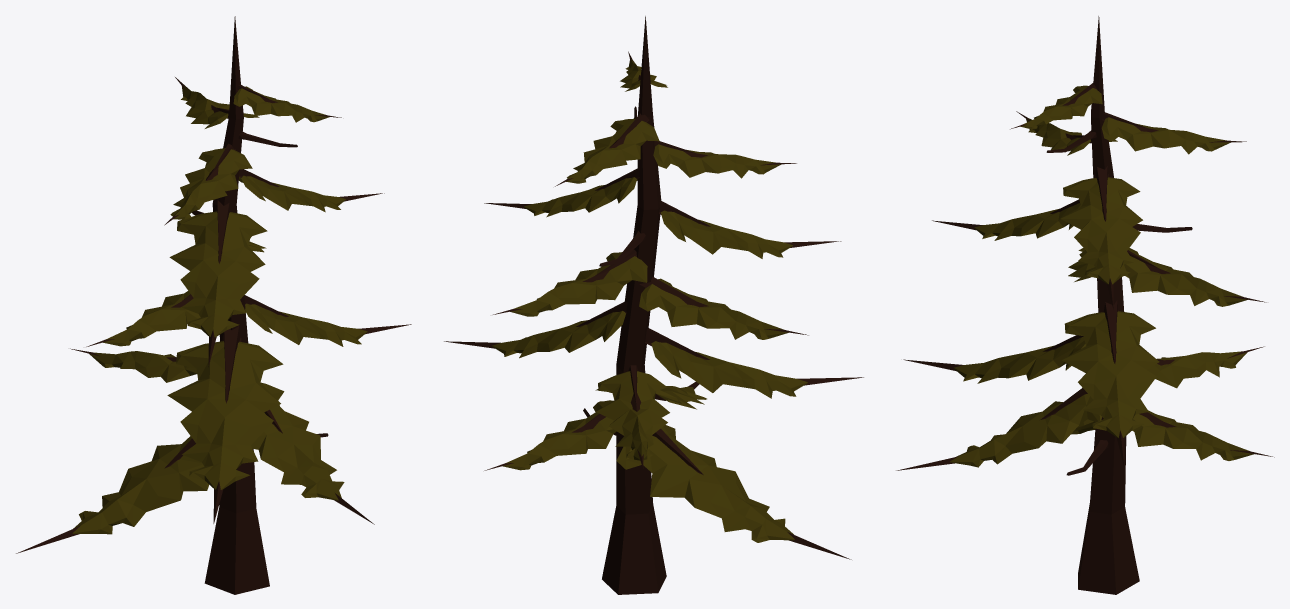
File: FirTree1.fbx.glb
The picture shows the model from 3 angles, left to right: view 1: azimuth 30°, elevation 25°; view 2: azimuth 150°, elevation 25°; view 3: azimuth 270°, elevation 25°; orthographic projection.
Parts seen in each view (by area): view 1: FirTree1; view 2: FirTree1; view 3: FirTree1.
Part boxes in pixels (<box>): FirTree1: <box>16,16,411,594</box>; FirTree1: <box>444,16,863,594</box>; FirTree1: <box>896,16,1274,594</box>.
Bounding box in the file's own units: 423 × 569 × 349.
